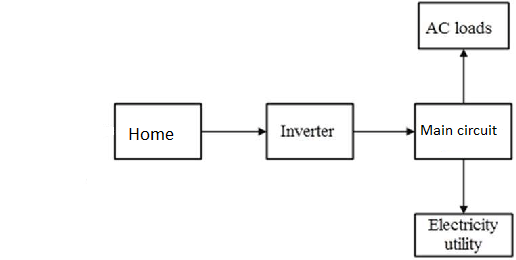arrow: (202, 126, 267, 138), (353, 127, 415, 136), (458, 50, 468, 104), (458, 159, 467, 213)
process: (412, 101, 514, 162), (111, 101, 206, 162), (263, 101, 356, 162), (412, 211, 516, 259), (415, 1, 511, 52)
text: (426, 217, 498, 253), (420, 123, 499, 138), (424, 19, 493, 36), (128, 125, 175, 142), (278, 123, 335, 137)
